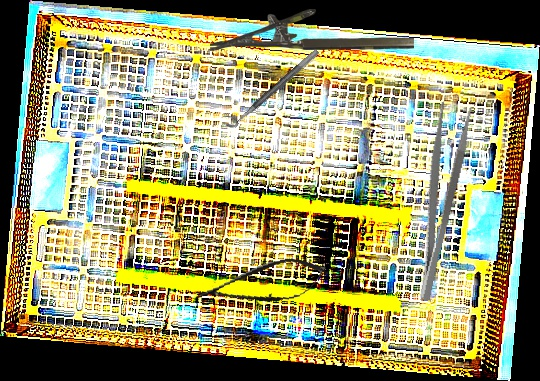Dressing Forceps: (398, 101, 476, 303)
Fixation Ring: (219, 41, 321, 132)
Micro Scissor: (191, 251, 332, 317)
Needle Holder: (210, 9, 414, 51)
